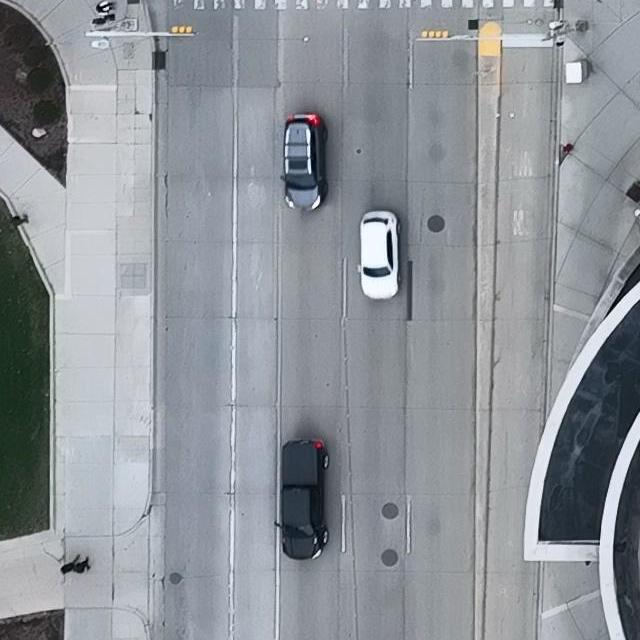car: (274, 438, 329, 561), (280, 112, 328, 212), (356, 210, 401, 300)
